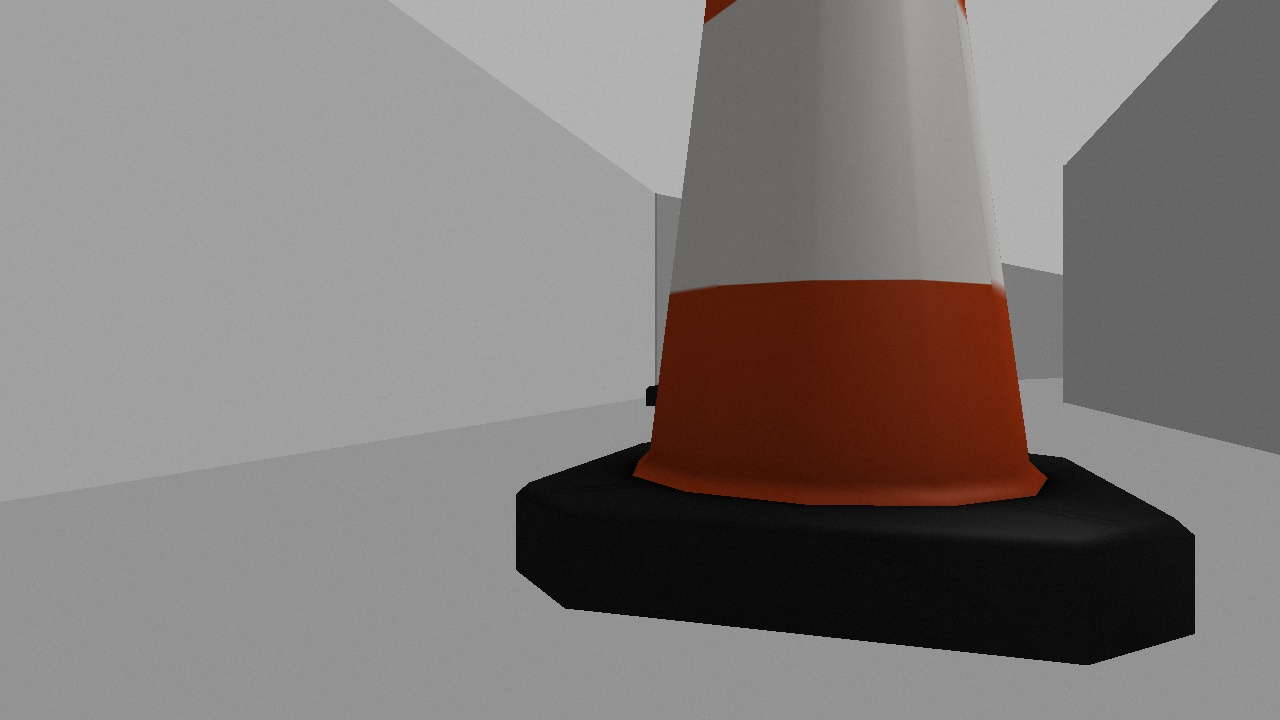barricade: (516, 1, 1195, 667)
